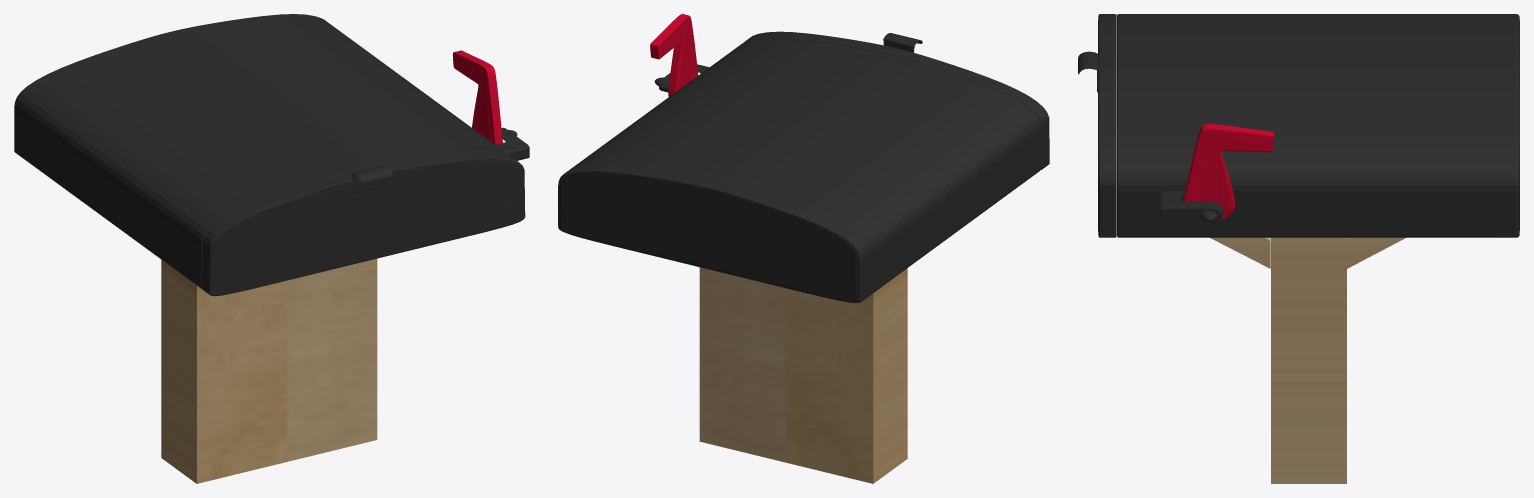
File: sh-bs0-mofx-mailbox.glb
The picture shows the model from 3 angles, left to right: view 1: azimuth 30°, elevation 25°; view 2: azimuth 150°, elevation 25°; view 3: azimuth 270°, elevation 25°; orthographic projection. The views are drawn at different scales.
Parts seen in each view (by area): view 1: 1_1, 7_7, 5_5; view 2: 1_1, 7_7, 5_5; view 3: 1_1, 7_7, 5_5.
Part boxes in pixels (bbox=[...]): 1_1: bbox=[14, 14, 529, 296]; 7_7: bbox=[161, 258, 377, 483]; 5_5: bbox=[453, 50, 502, 144]; 1_1: bbox=[558, 31, 1049, 302]; 7_7: bbox=[699, 267, 907, 483]; 5_5: bbox=[650, 14, 698, 96]; 1_1: bbox=[1078, 14, 1519, 237]; 7_7: bbox=[1210, 237, 1405, 483]; 5_5: bbox=[1183, 124, 1274, 220].
Bounding box in the file's own units: 1 × 1 × 1.
3 materials, 1 textured.
